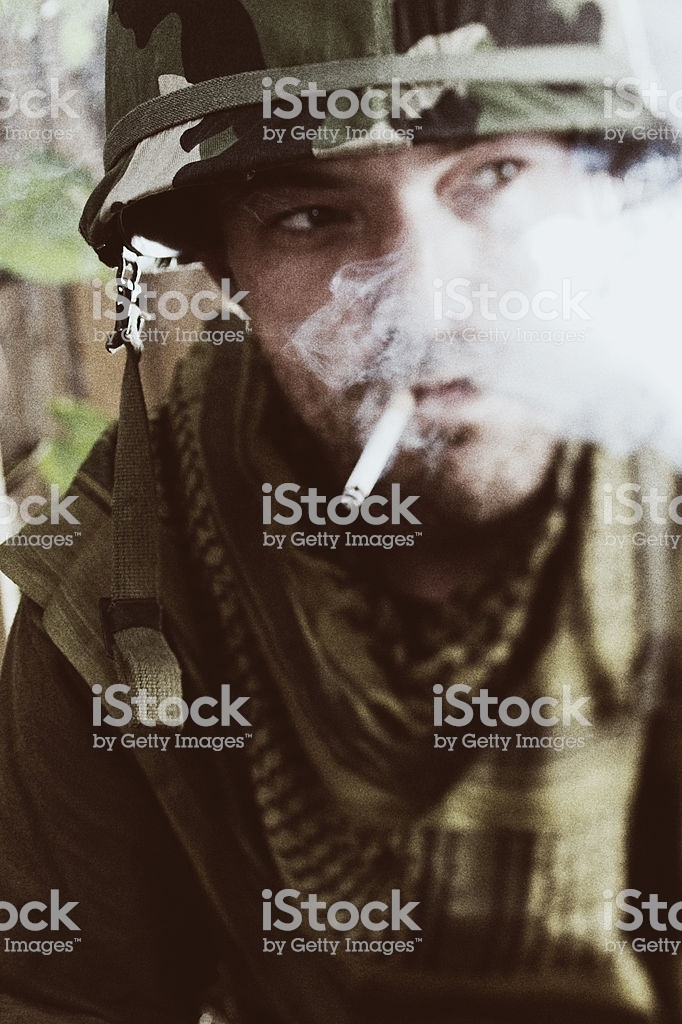sigaretta: (335, 370, 419, 522)
